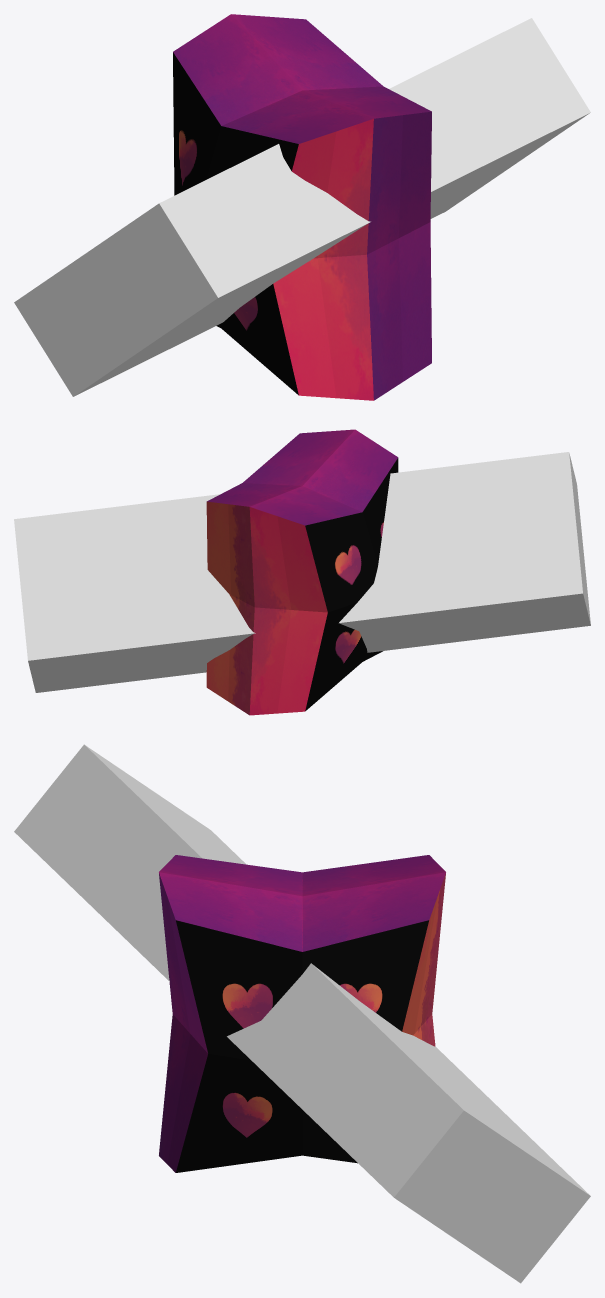
File: untitledThree.fbx
3 renders of one model, top to bottom at view 1: azimuth 30°, elevation 25°; view 2: azimuth 150°, elevation 25°; view 3: azimuth 270°, elevation 25°, orthographic. The views are drawn at different scales.
Visible parts, largest first — view 1: Куб, Cube; view 2: Cube, Куб; view 3: Cube, Куб.
Boxes of the visible parts, <box> form: Куб: <box>173,14,431,400</box>; Cube: <box>14,18,590,396</box>; Cube: <box>14,452,590,692</box>; Куб: <box>206,429,398,715</box>; Cube: <box>14,744,590,1283</box>; Куб: <box>159,855,445,1172</box>.
Size of the model in its own units: 3511 by 1458 by 2612.
